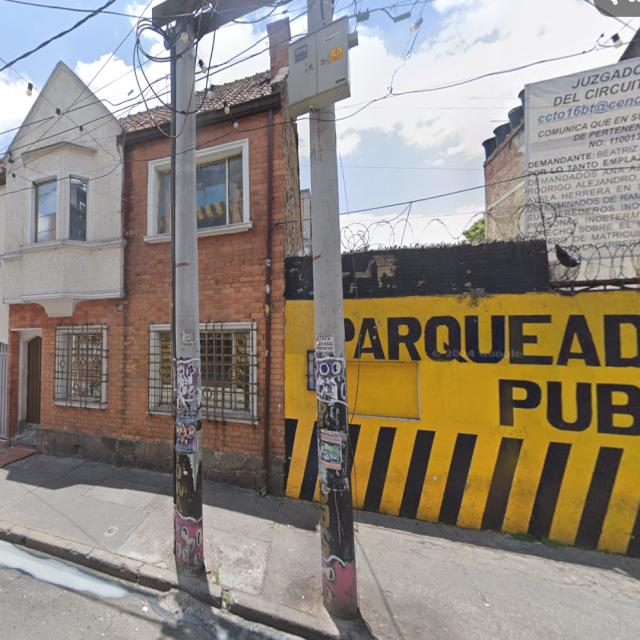fachada: (193, 20, 302, 492), (483, 92, 526, 240)
poste: (310, 106, 357, 619), (172, 23, 204, 575)
